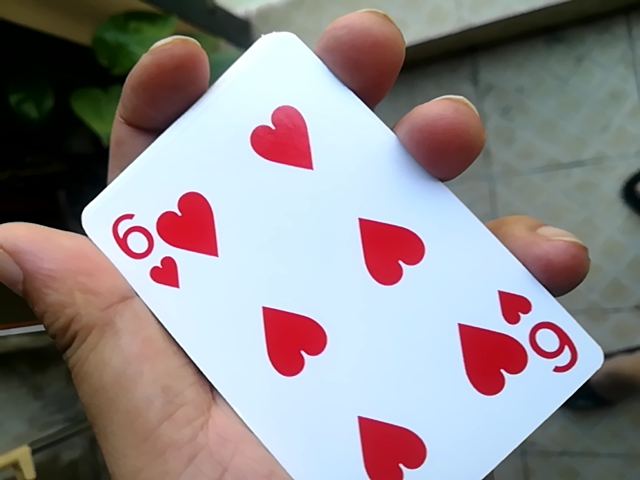hx 6: (65, 31, 588, 479)
